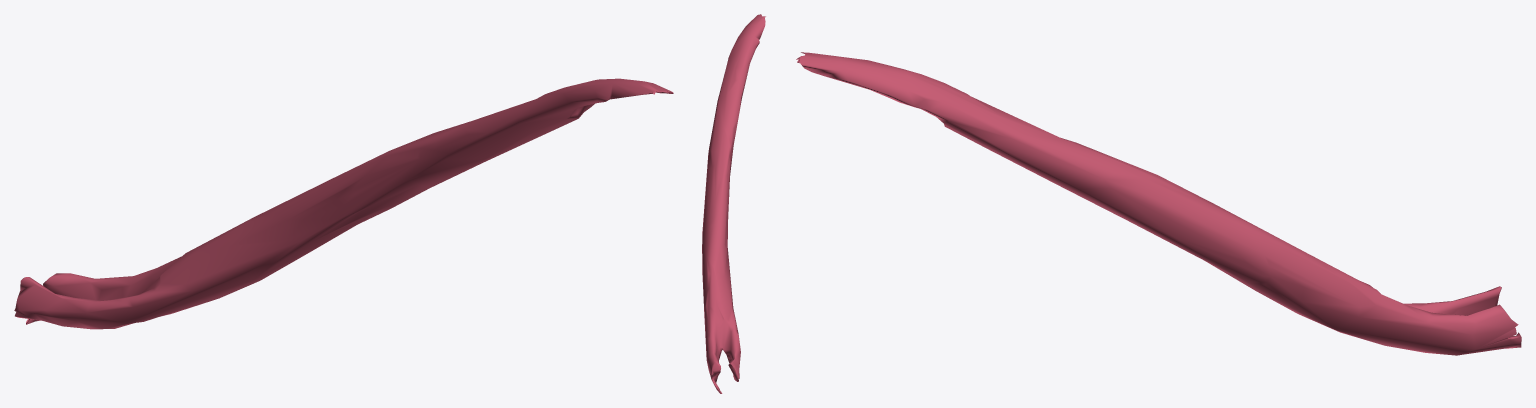
3 renders of one model, left to right at view 1: azimuth 30°, elevation 25°; view 2: azimuth 150°, elevation 25°; view 3: azimuth 270°, elevation 25°, orthographic. The views are drawn at different scales.
Parts seen in each view (by area): view 1: 左侧茎突舌骨肌; view 2: 左侧茎突舌骨肌; view 3: 左侧茎突舌骨肌.
Part boxes in pixels (<box>): 左侧茎突舌骨肌: <box>14,78,673,329</box>; 左侧茎突舌骨肌: <box>702,14,765,393</box>; 左侧茎突舌骨肌: <box>796,52,1521,355</box>.
Bounding box in the file's own units: 0.0466 × 0.0601 × 0.0925.
